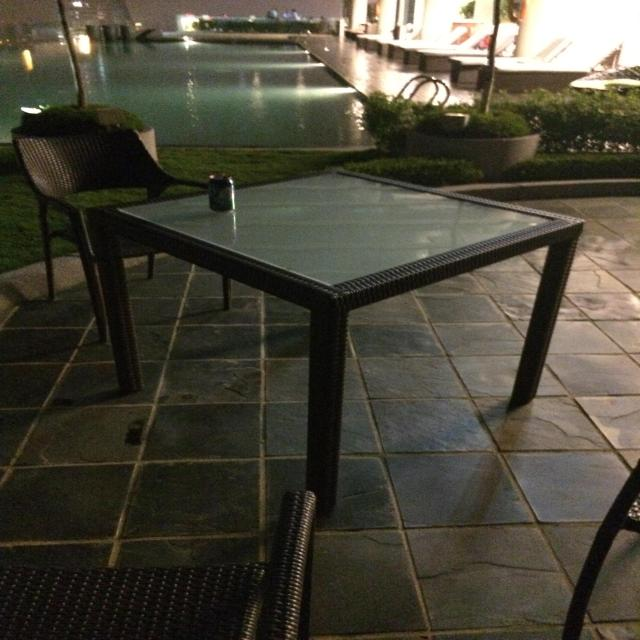Table: (119, 152, 575, 498)
chair: (0, 477, 382, 640), (0, 83, 225, 336)
